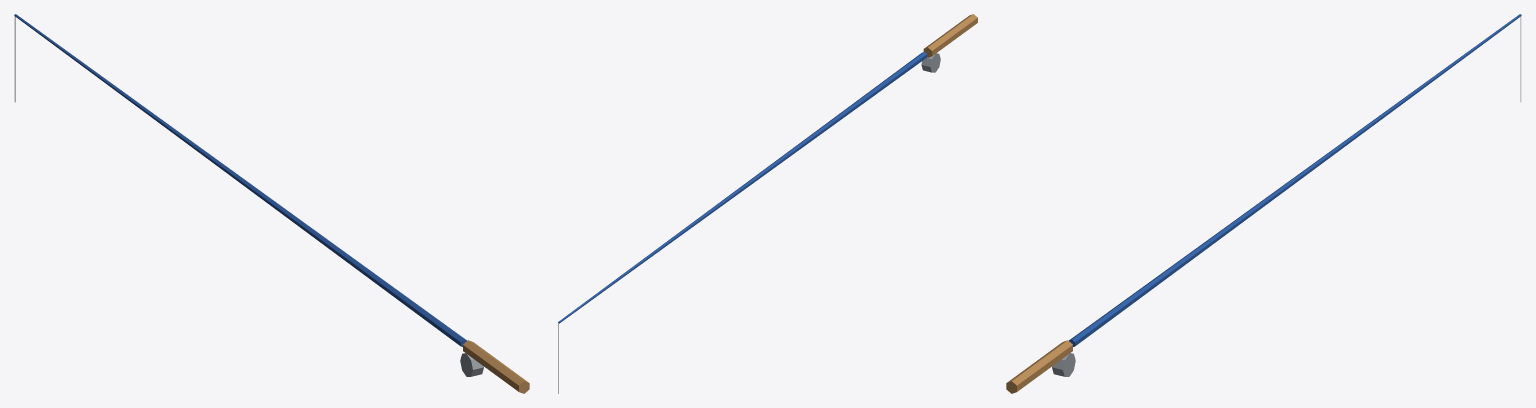
Rendered from fishing_rod.glb.
The picture shows the model from 3 angles, left to right: view 1: azimuth 30°, elevation 25°; view 2: azimuth 150°, elevation 25°; view 3: azimuth 330°, elevation 25°; orthographic projection. The views are drawn at different scales.
Parts seen in each view (by area): view 1: rod_rod_blue, grip_rod_cork; view 2: rod_rod_blue, grip_rod_cork; view 3: rod_rod_blue, grip_rod_cork.
Part boxes in pixels (x1,y1,x2,y2): rod_rod_blue: (14, 14, 466, 346); grip_rod_cork: (463, 340, 529, 393); rod_rod_blue: (558, 52, 927, 323); grip_rod_cork: (923, 14, 977, 57); rod_rod_blue: (1069, 14, 1521, 346); grip_rod_cork: (1006, 340, 1072, 393).
Size of the model in its own units: 0.04 by 0.322 by 3.18.
